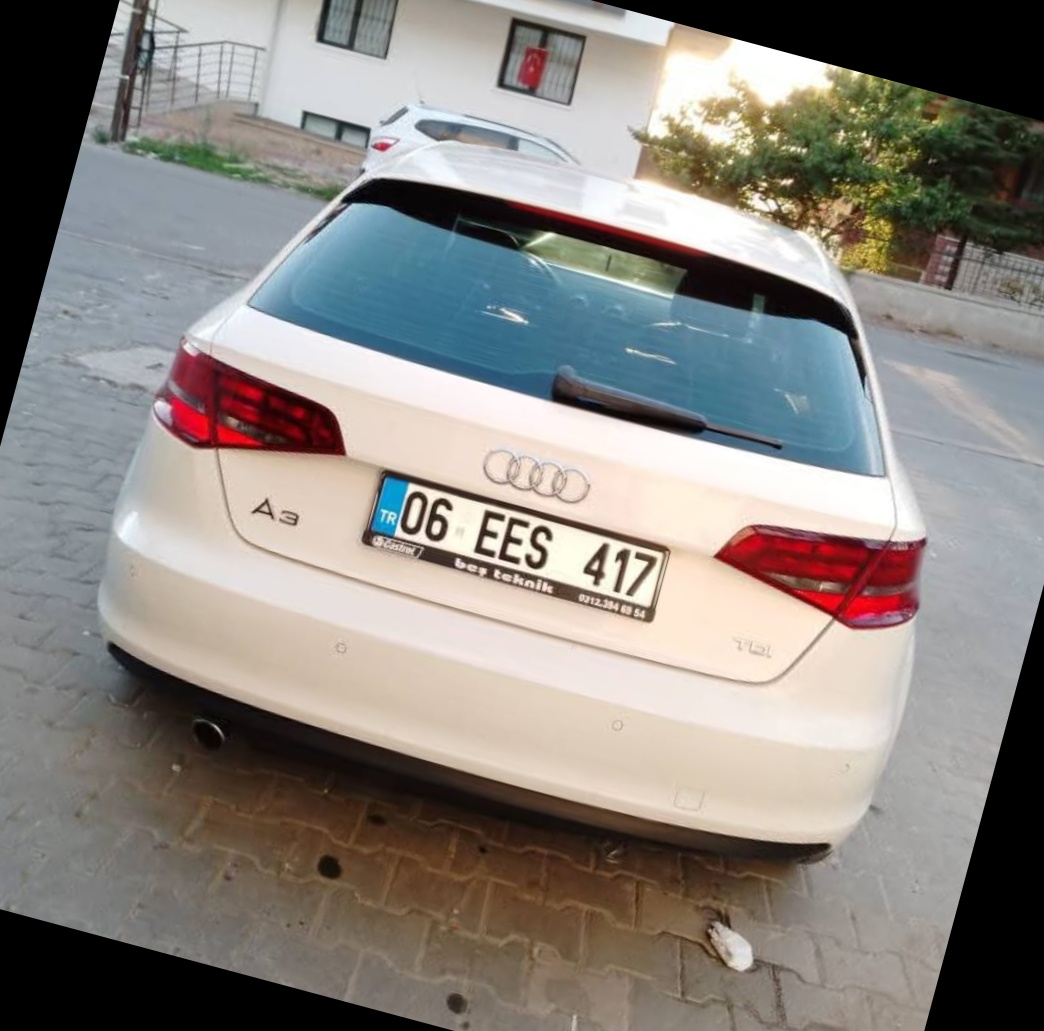plaka: (392, 477, 666, 605)
